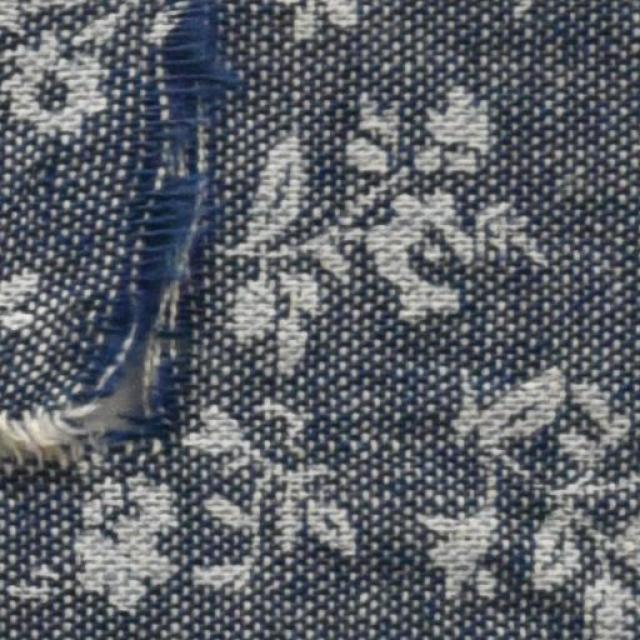Hole: (83, 341, 145, 442)
Snag: (0, 3, 223, 473)
